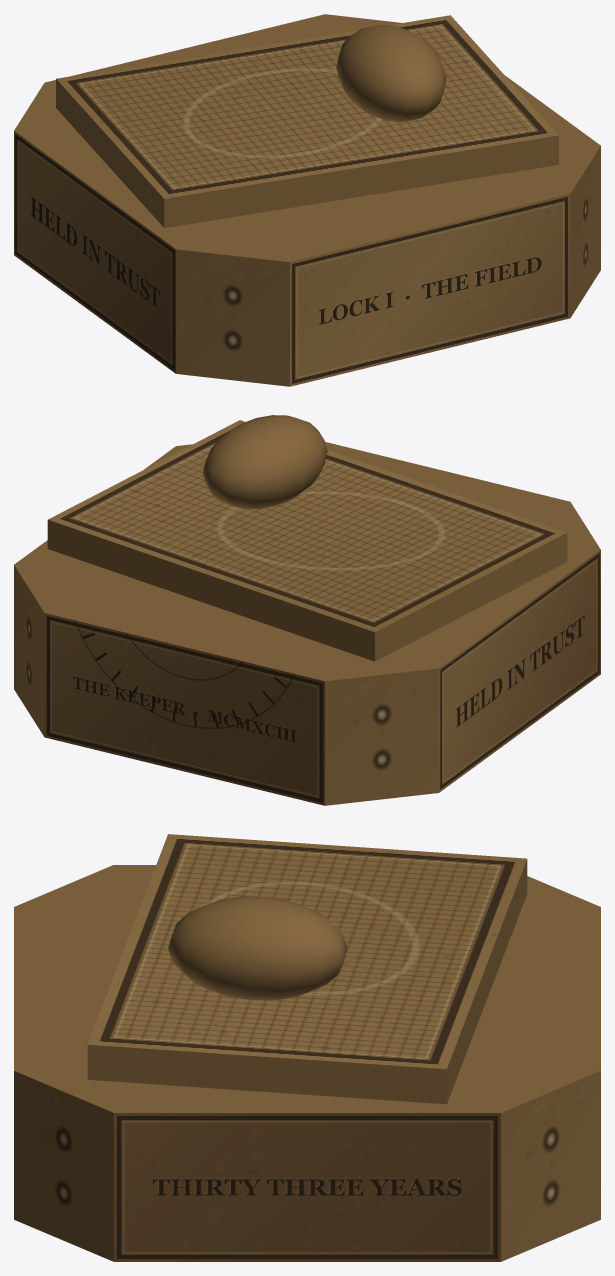
Rendered from witnessField.glb.
3 renders of one model, top to bottom at view 1: azimuth 30°, elevation 25°; view 2: azimuth 150°, elevation 25°; view 3: azimuth 270°, elevation 25°, orthographic. The views are drawn at different scales.
Parts seen in each view (by area): view 1: witnessField; view 2: witnessField; view 3: witnessField.
Part boxes in pixels (left/top/right/bottom): witnessField: left=14, top=14, right=600, bottom=386; witnessField: left=14, top=415, right=600, bottom=805; witnessField: left=14, top=834, right=600, bottom=1261.
Bounding box in the file's own units: 0.1 × 0.051 × 0.1.
1 material, 1 textured.
